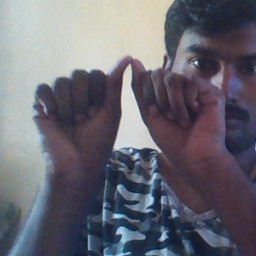A: (46, 53, 209, 156)
